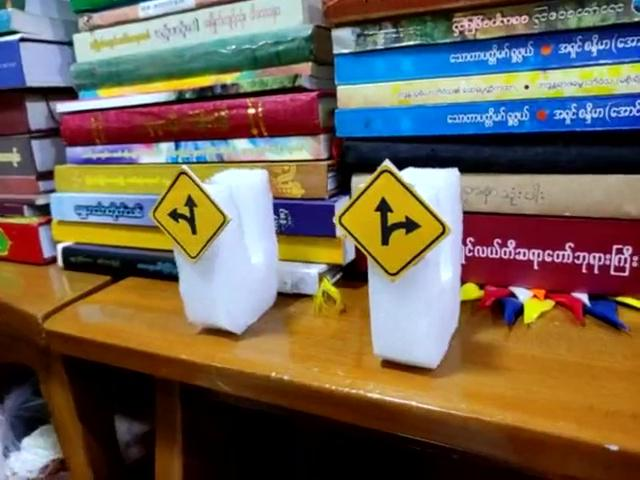Straight Or Left Sign: (150, 165, 230, 262)
Straight Or Right Sign: (334, 167, 448, 279)
